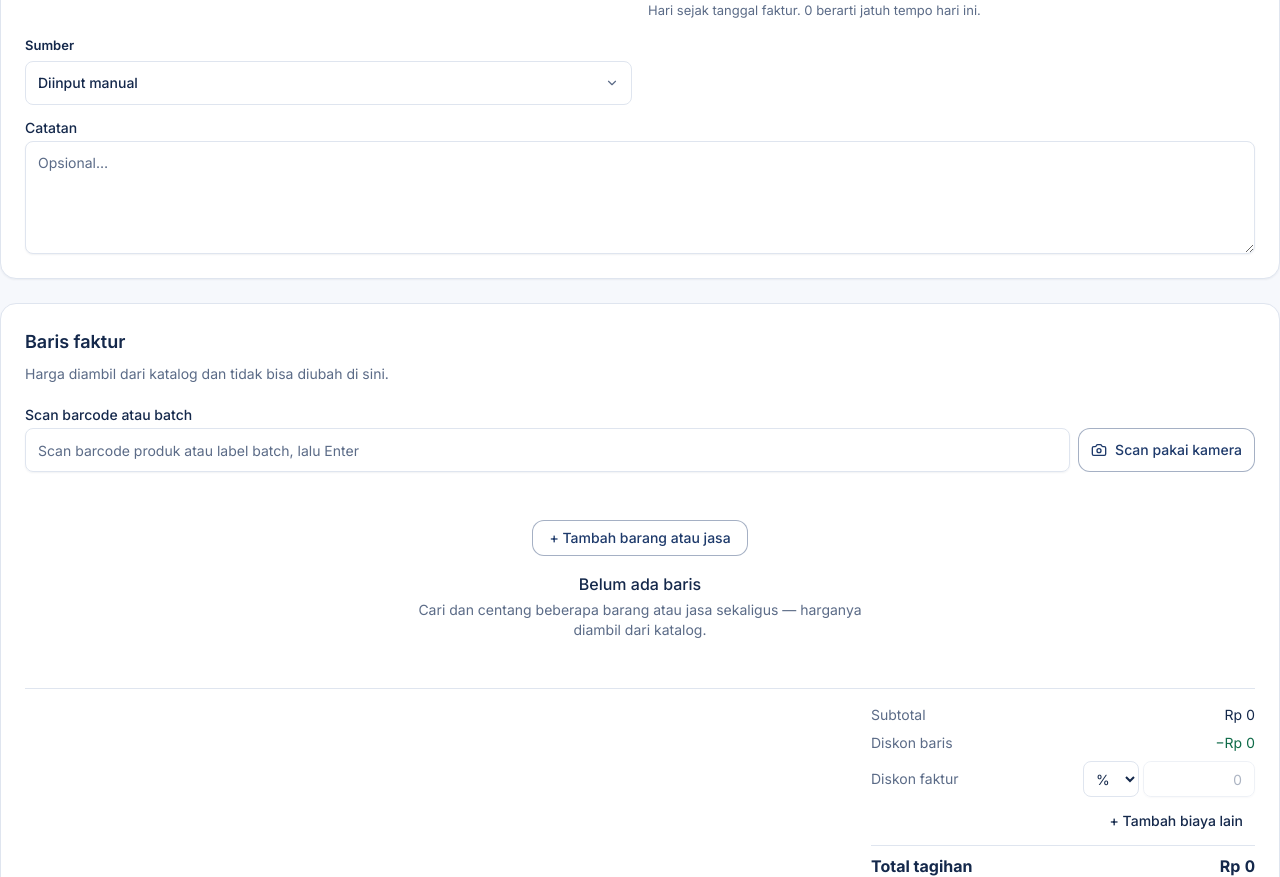
scanning a barcode › adds the scanned product, and one more of it on a second scan
(page scrolled)
# A scanner types the code and ends it with Enter.
Type "8991234500123" into the field labelled "Scan barcode atau batch" at (548, 450), box [25,428,1070,472]
Then press Enter
(page scrolled)
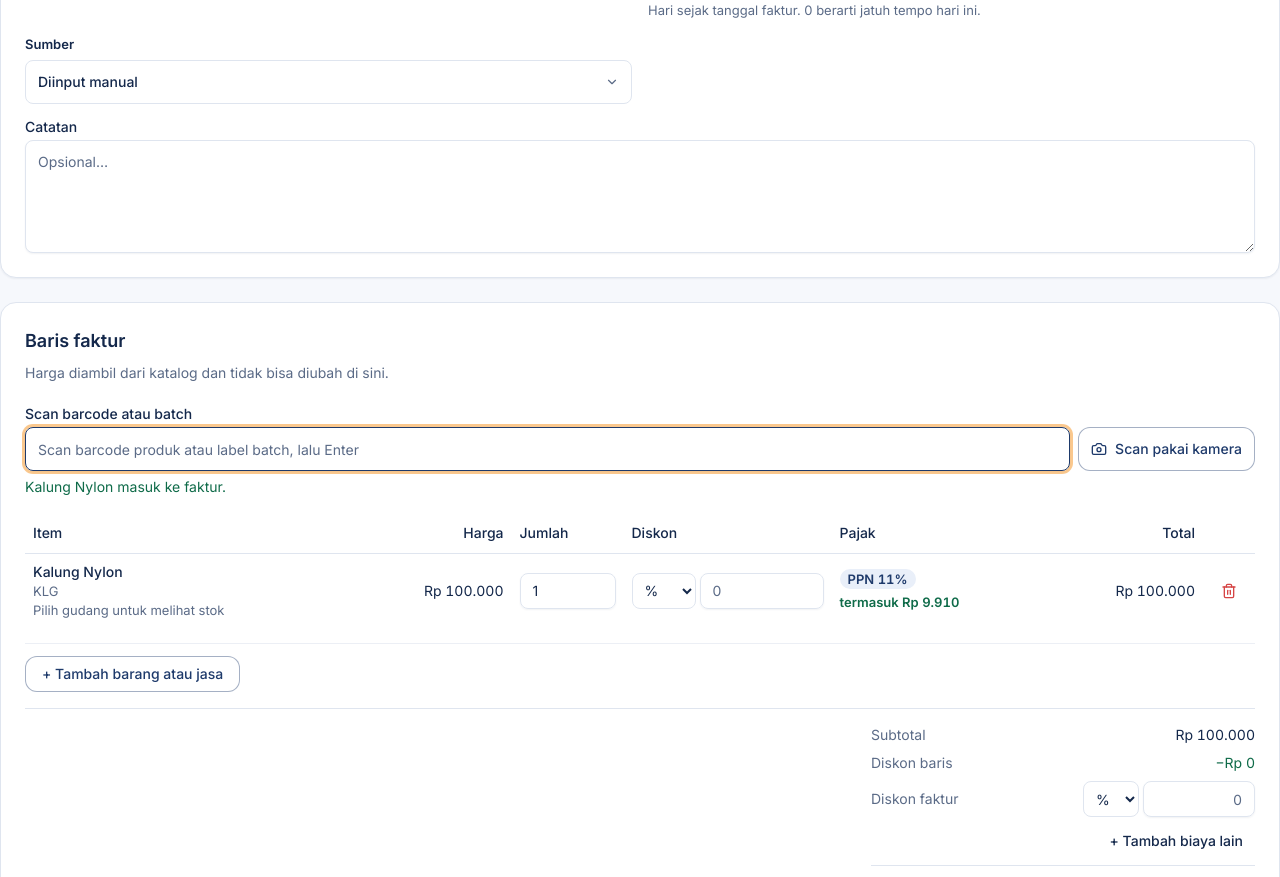
Expected: the button named "Hapus Kalung Nylon" is shown, [1211,575,1247,607]
Expected: the field named "jumlah kalung nylon" holds "1", [520,573,616,609]
Type "8991234500123" into the field labelled "Scan barcode atau batch" at (548, 449), box [25,427,1070,471]
Then press Enter
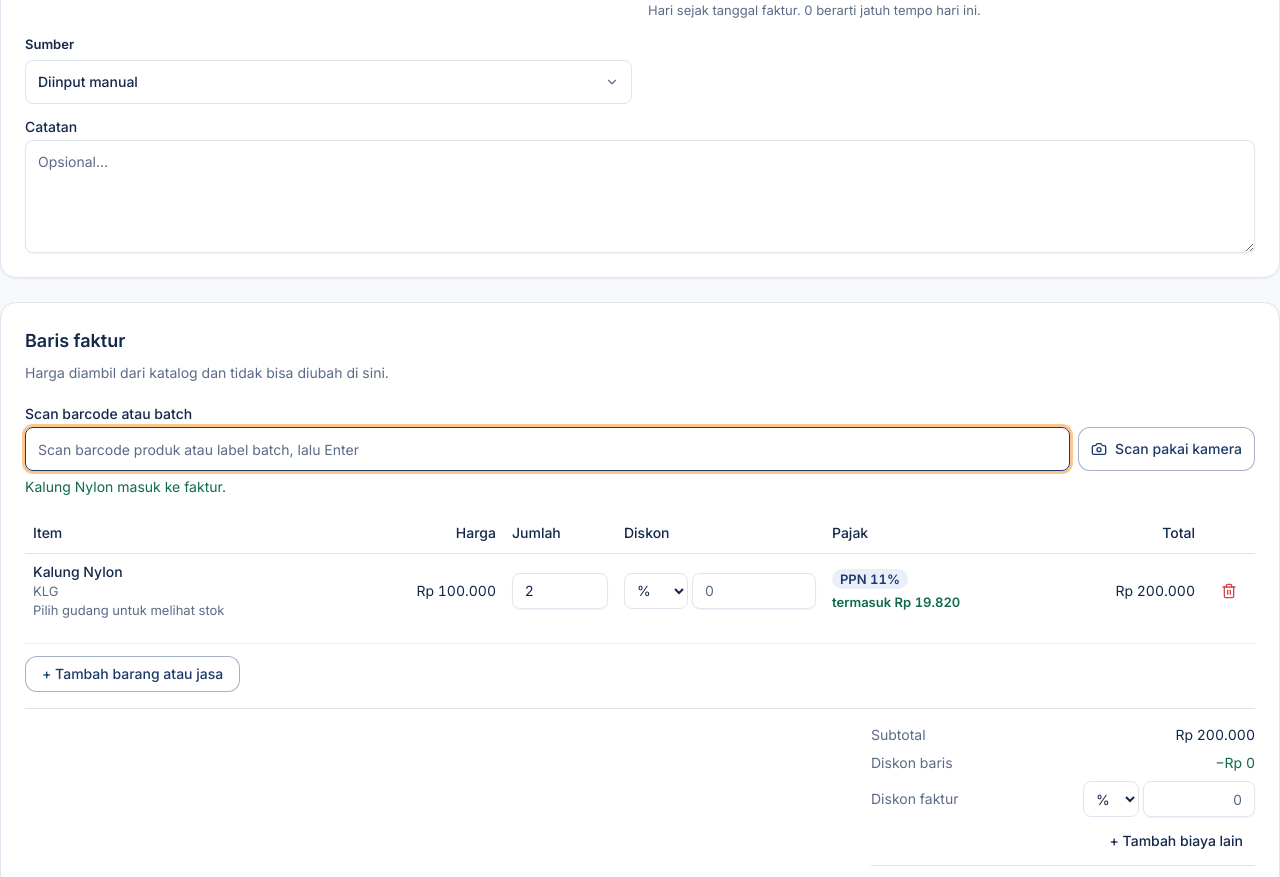
Expected: the number of buttons named "Hapus Kalung Nylon" is 1, [1211,575,1247,607]
Expected: the field named "jumlah kalung nylon" holds "2", [512,573,608,609]
